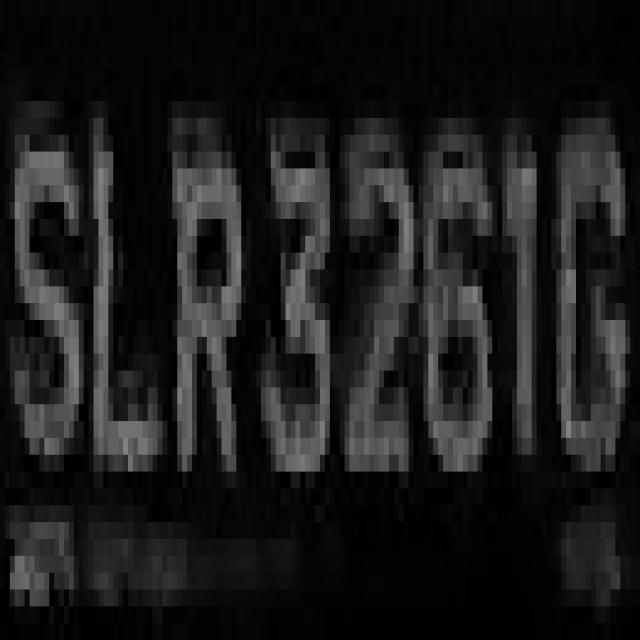1: (497, 101, 542, 505)
2: (335, 84, 418, 539)
3: (261, 101, 335, 522)
6: (418, 84, 498, 488)
G: (542, 101, 635, 539)
L: (74, 101, 167, 556)
R: (167, 84, 251, 556)
S: (5, 84, 79, 472)
